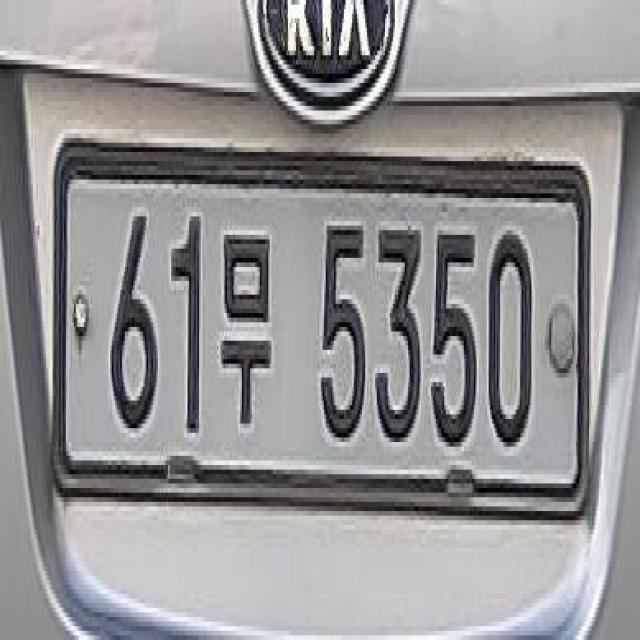0: (484, 208, 538, 455)
1: (164, 205, 210, 452)
3: (373, 202, 424, 443)
5: (314, 202, 368, 448), (428, 207, 481, 449)
6: (106, 206, 160, 442)
license_plate: (42, 121, 598, 530)
mu: (214, 211, 278, 448)
